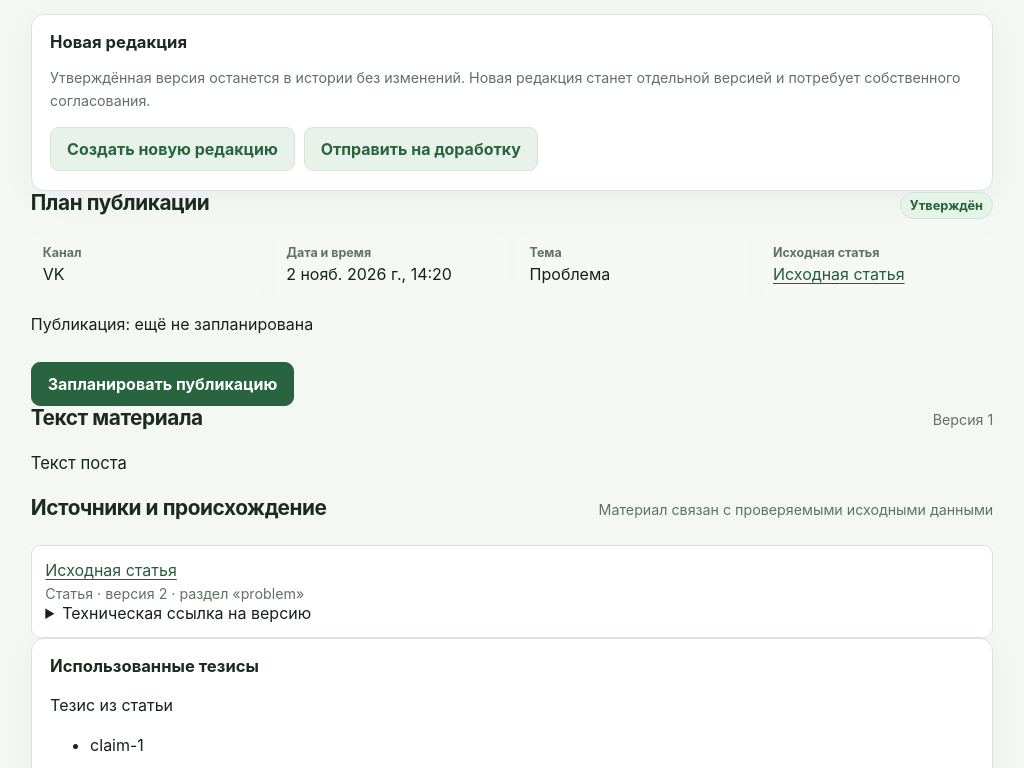
Scenario: Content and approvals UI › shows the approved post version, article provenance and its plan-owned schedule action
This screenshot has width=1024, height=768.
(page scrolled)
Expected: the link "Исходная статья" in the row of "Проблема" is shown, [773,264,904,284]
Expected: the text "Статья · версия 2 · раздел «problem»" is shown, [45,585,304,602]
Click the button "Запланировать публикацию" at (163, 384), box [31,362,294,406]
(page scrolled)
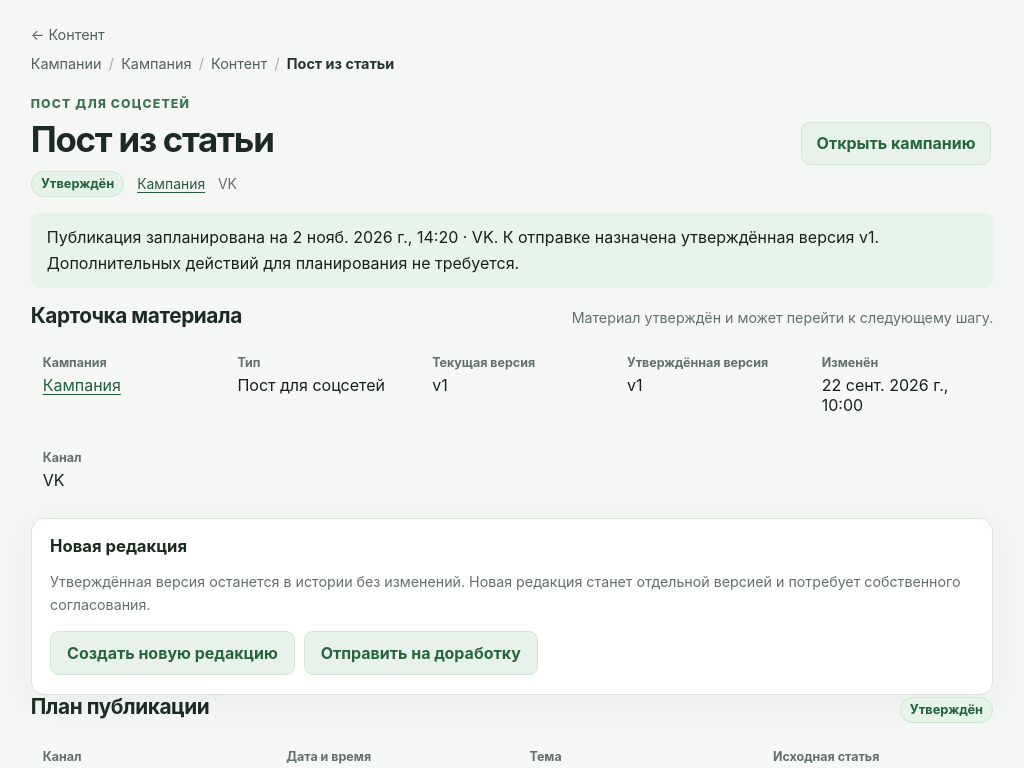
Expected: the text "Дополнительных действий для планирования не требуется" is shown, [47,227,879,273]
